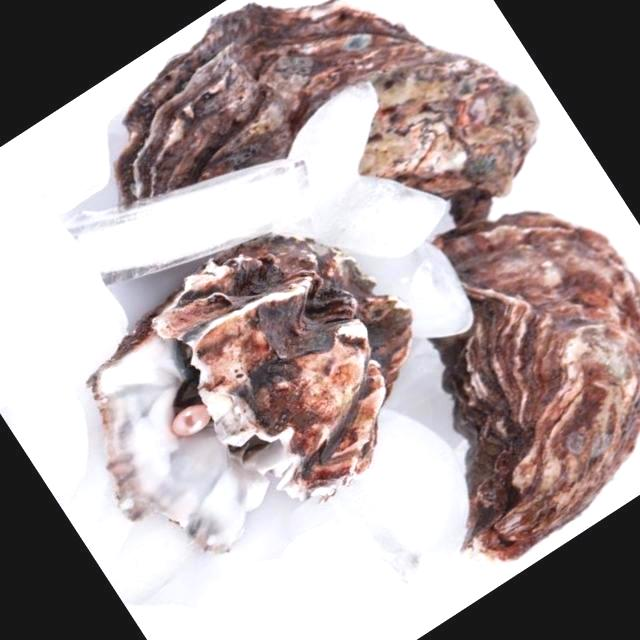Oyster-Closed: (110, 0, 540, 238), (430, 212, 640, 568)
Oyster-Open: (86, 232, 412, 554)
